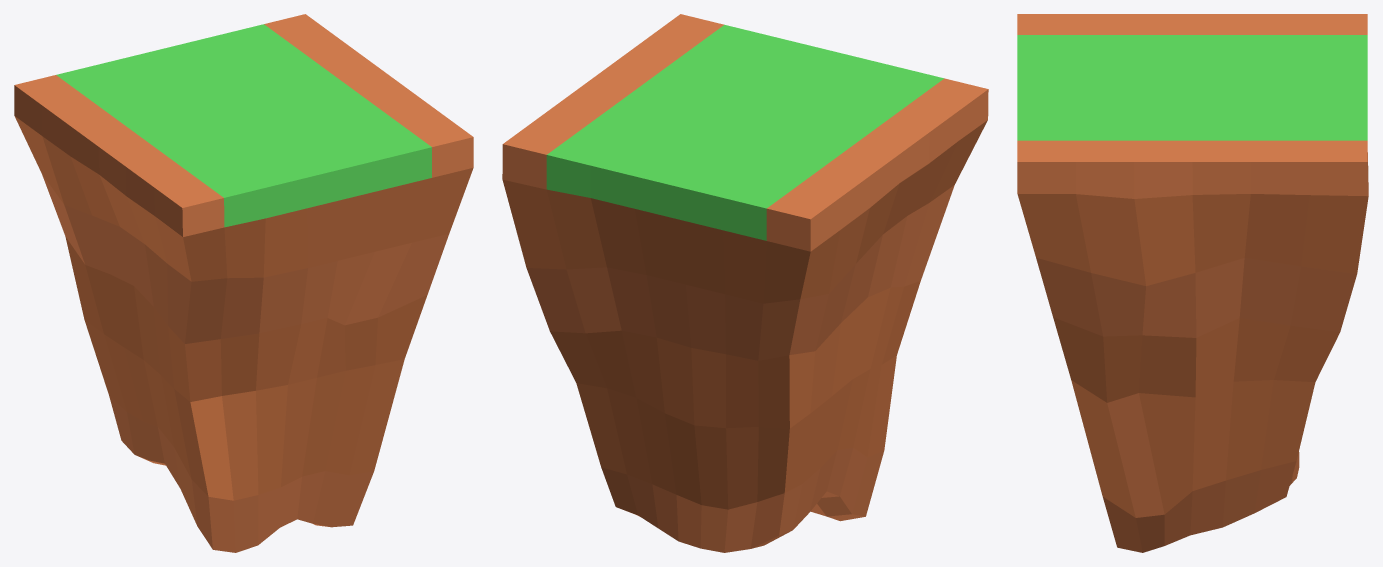
File: hill.fbx
3 views of the same model, side by side, from view 1: azimuth 30°, elevation 25°; view 2: azimuth 150°, elevation 25°; view 3: azimuth 270°, elevation 25° (orthographic). The views are drawn at different scales.
Visible parts, largest first — view 1: Cube; view 2: Cube; view 3: Cube.
Boxes of the visible parts, x1,y1,x2,y2 form: Cube: (14, 14, 473, 552); Cube: (502, 14, 988, 552); Cube: (1017, 14, 1368, 552).
Bounding box in the file's own units: 201 × 271 × 201.
